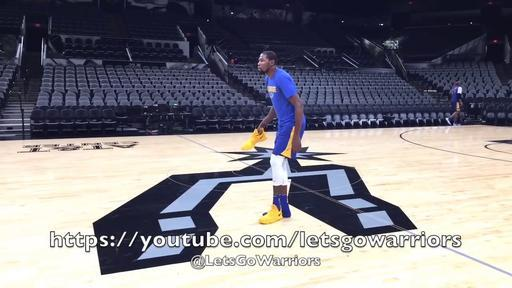human: (240, 50, 306, 224), (445, 80, 463, 127)
